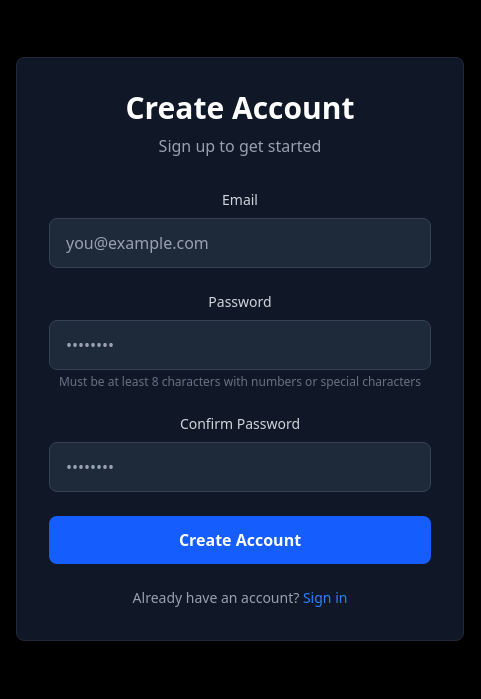
Test: Register Component › Error Handling › displays generic error message for network errors
In the field labelled "Email": (240, 243) [49,218,431,268], type "test@example.com"
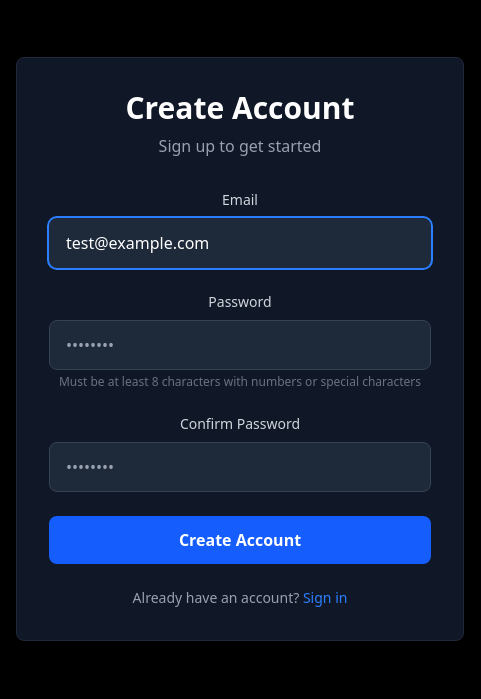
In the password field labelled "Password": (240, 345) [49,320,431,370], type "SecurePass123!"
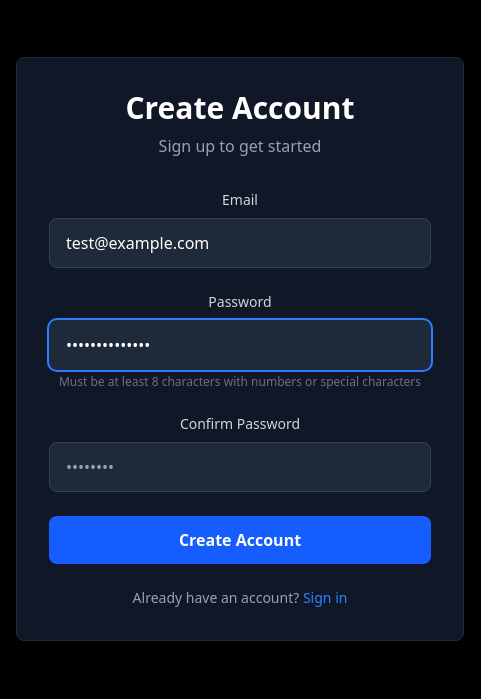
In the password field labelled "Confirm Password": (240, 467) [49,442,431,492], type "SecurePass123!"
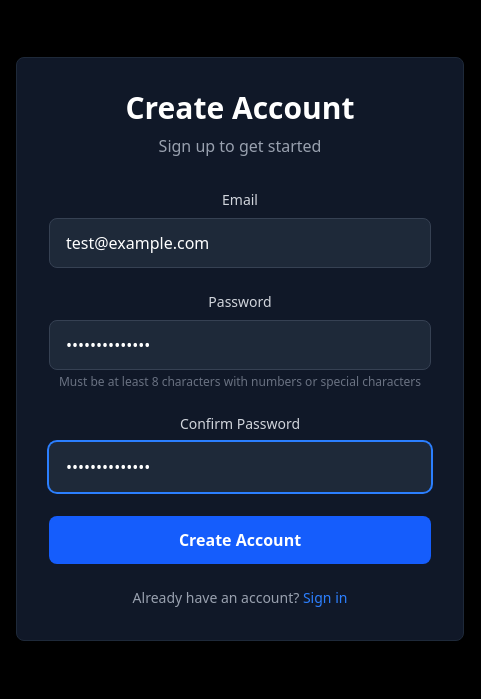
Click the button "Create Account": (240, 540) [49,516,431,564]
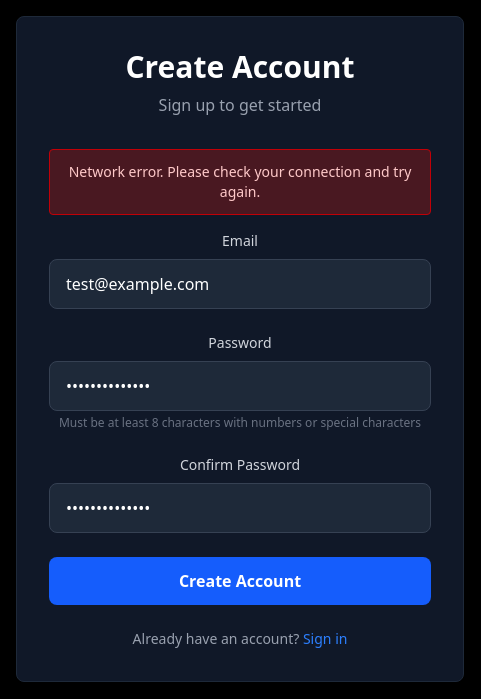
expect the text "Network error. Please check your connection and try again." is shown: met, box [49,149,431,215]
